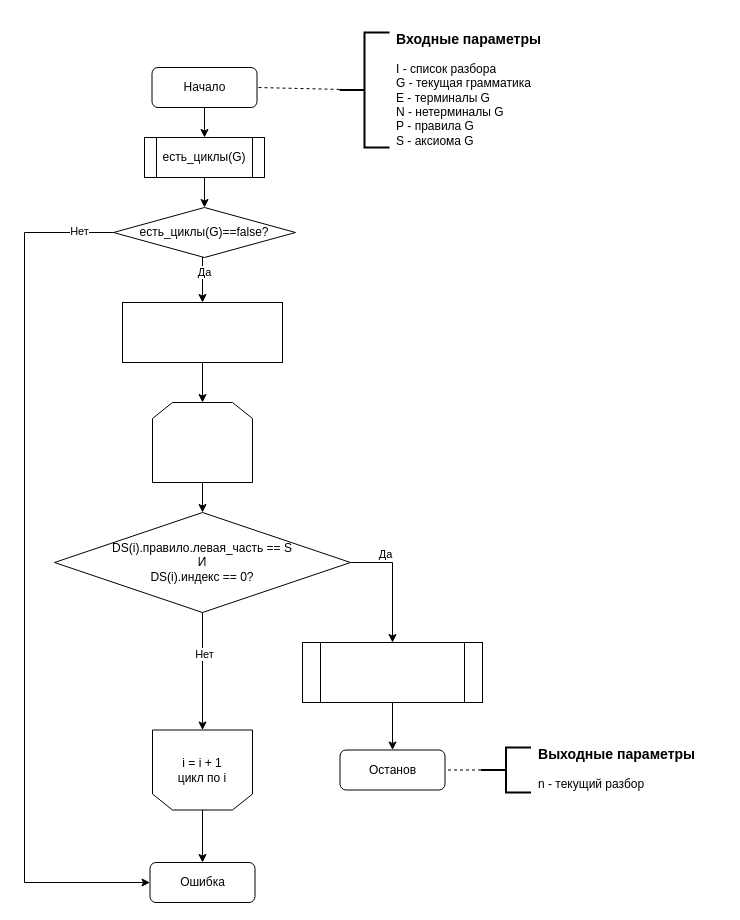
Some shapes in this 740 by 920 pixel diagram are drawn without their labels. Each missing label, with the centre of its shape:
"h = w.размер() DS = I(h).точка_на_конце()" belongs at (202,332).
"n = R(I, DS(i), 0)" belongs at (392,672).
"цикл по i от 1 до DS.размер()" belongs at (202,442).
